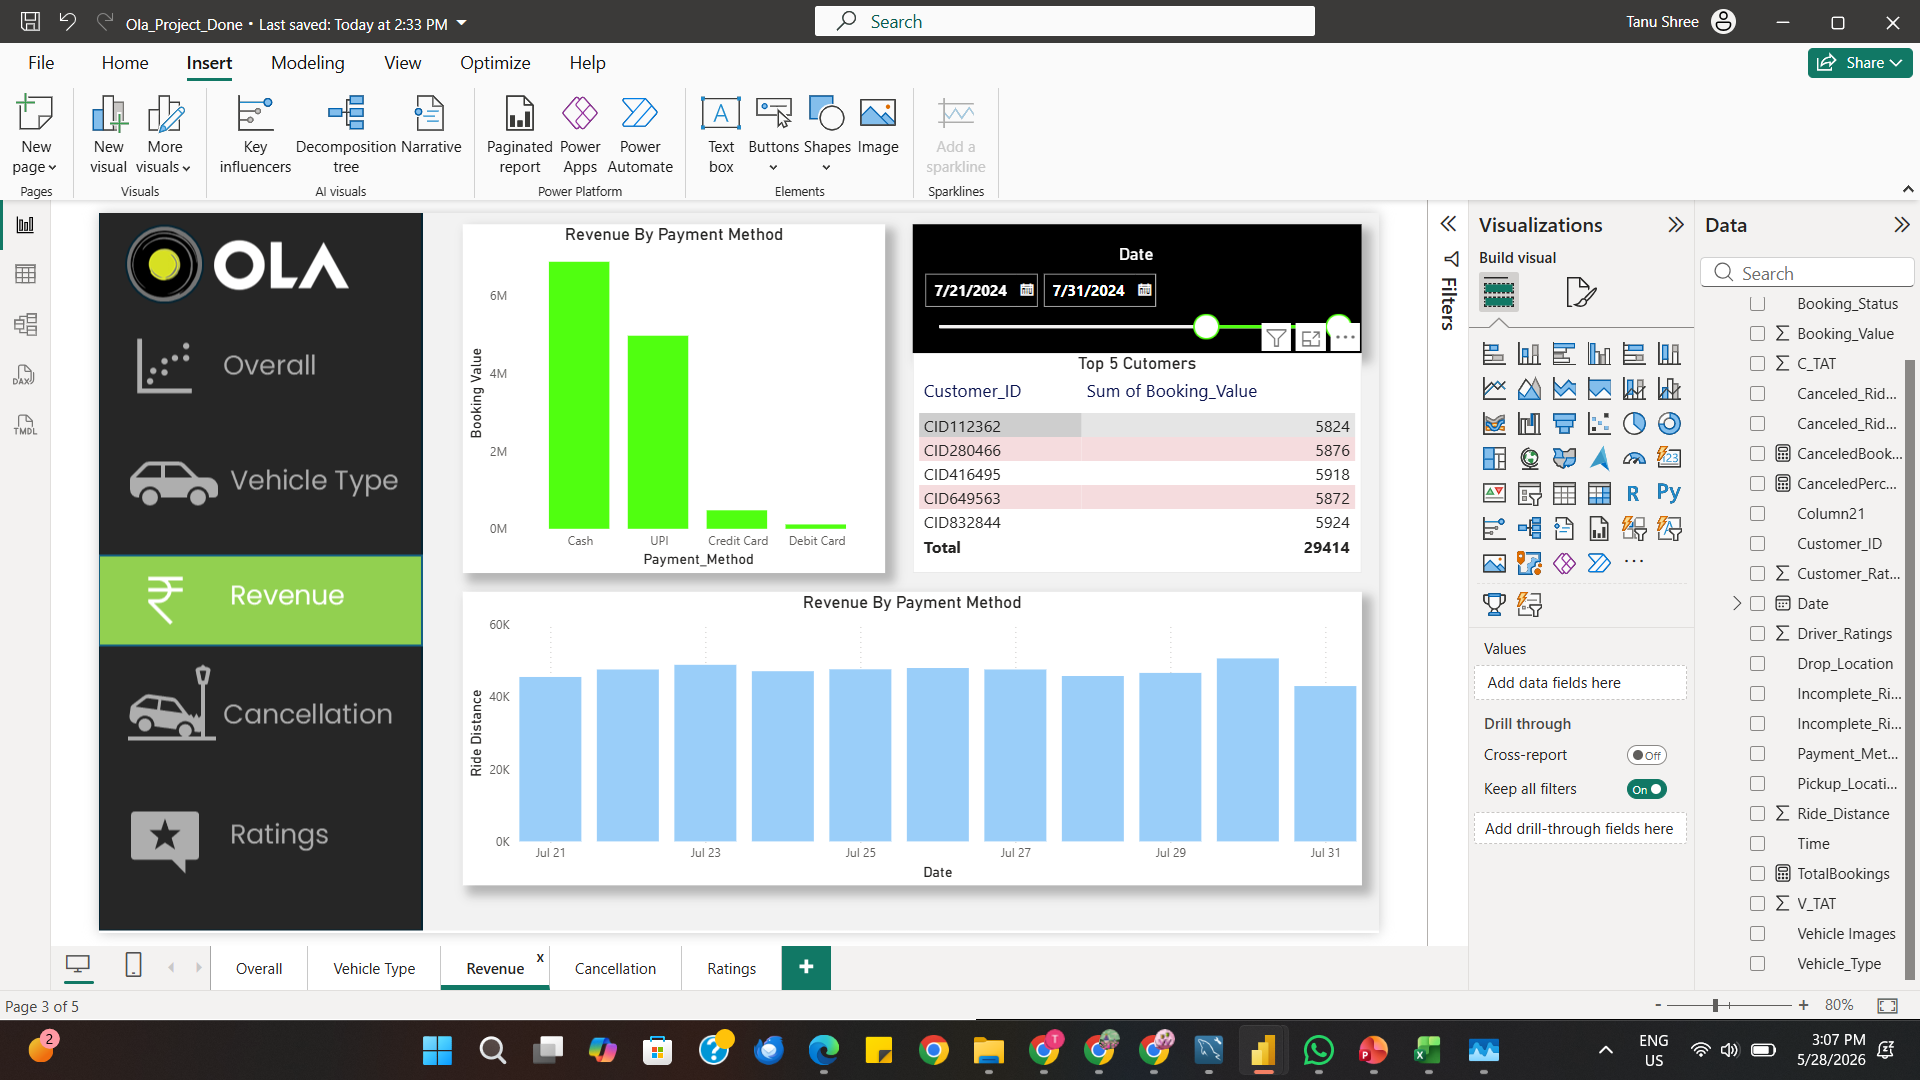

The dashboard page shown, as its layout file describes it:
{"tool":"powerbi","page":{"name":"Revenue","canvas":[1280,720],"ordinal":2},"visuals":[{"type":"actionButton","box":[0,228,325.7,94.1],"z":0},{"type":"actionButton","box":[0,108.6,325.7,94.1],"z":1000},{"type":"actionButton","box":[0,447.6,325.7,90.5],"z":2000},{"type":"actionButton","box":[0,581.5,325.7,90.5],"z":3000},{"type":"columnChart","title":"Revenue By Payment Method","fields":{"Y":["Sum(July.Booking_Value)"],"Category":["July.Payment_Method"]},"box":[363.6,11,422.6,348.5],"z":3001},{"type":"columnChart","title":"Revenue By Payment Method","fields":{"Y":["Sum(July.Ride_Distance)"],"Category":["July.Date"]},"box":[363.6,378.7,898.8,293.7],"z":3002},{"type":"slicer","title":"Date","fields":{"Values":["July.Date"]},"box":[813.7,11,448.7,129],"z":3003},{"type":"tableEx","title":"Top 5 Cutomers","fields":{"Values":["July.Customer_ID","Sum(July.Booking_Value)"]},"box":[813.7,140,448.7,219.6],"z":3004}]}

Visuals, with their boxes in screenshot pixels (x1, y1, x2, y2):
actionButton: BBox(0, 357, 362, 496)
actionButton: BBox(0, 181, 362, 320)
actionButton: BBox(0, 682, 362, 816)
actionButton: BBox(0, 880, 362, 1014)
"Revenue By Payment Method" columnChart: BBox(418, 36, 1043, 552)
"Revenue By Payment Method" columnChart: BBox(418, 580, 1747, 1015)
"Date" slicer: BBox(1084, 36, 1747, 227)
"Top 5 Cutomers" tableEx: BBox(1084, 227, 1747, 552)
